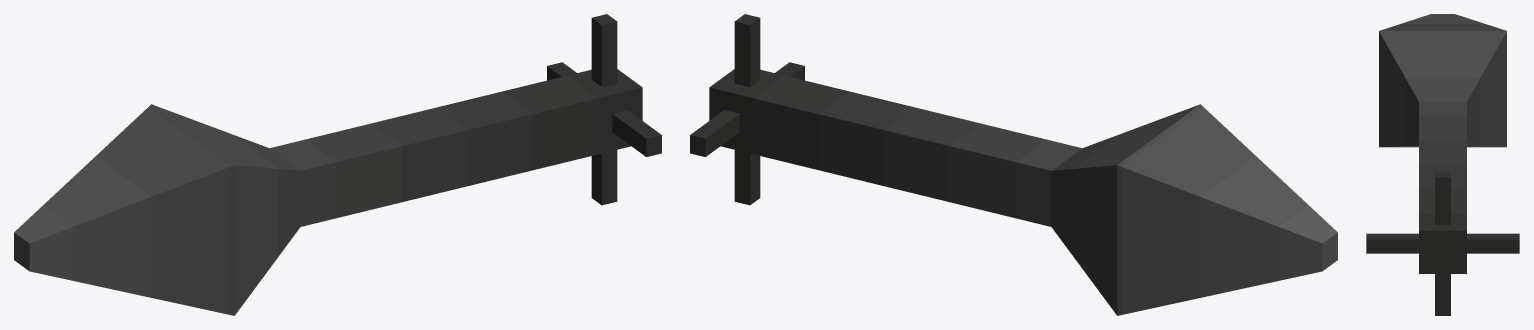
The model's file is Rocket_Projectile.fbx.
3 views of the same model, side by side, from view 1: azimuth 30°, elevation 25°; view 2: azimuth 150°, elevation 25°; view 3: azimuth 270°, elevation 25° (orthographic). The views are drawn at different scales.
Visible parts, largest first — view 1: Rocket_Projectile; view 2: Rocket_Projectile; view 3: Rocket_Projectile.
Part boxes in pixels (x1=…): Rocket_Projectile: x1=14, y1=14, x2=661, y2=315; Rocket_Projectile: x1=690, y1=14, x2=1337, y2=315; Rocket_Projectile: x1=1366, y1=14, x2=1519, y2=315.
Bounding box in the file's own units: 21.67 × 6.17 × 6.17.
